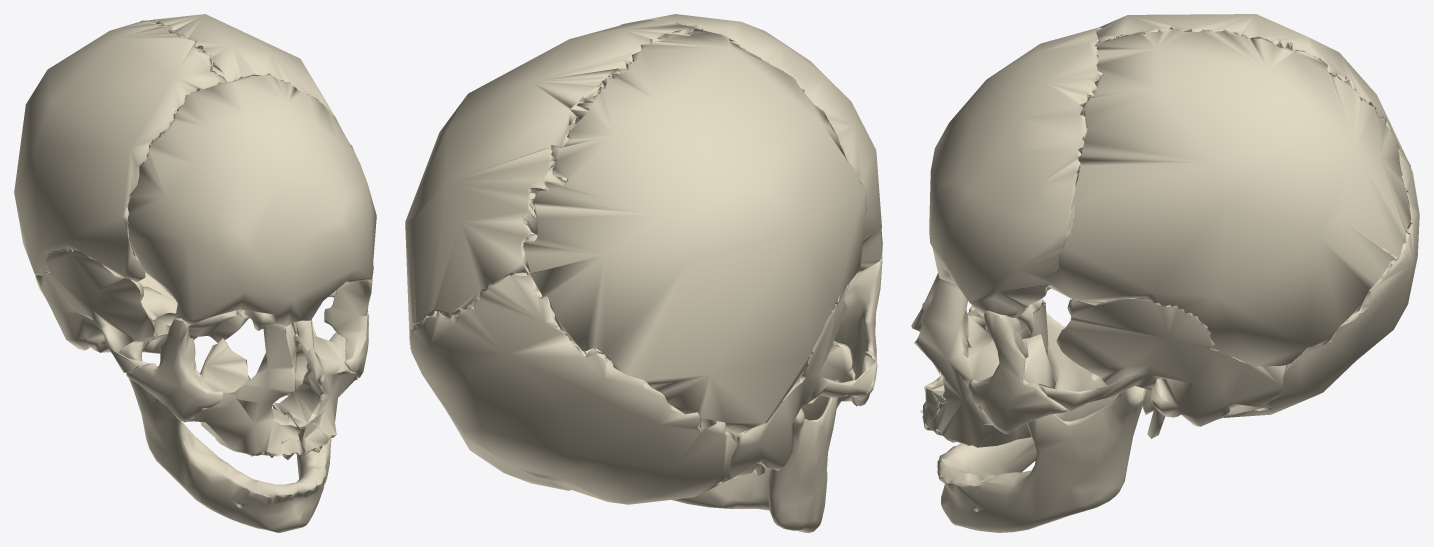
Rendered from head-mobile.glb.
3 views of the same model, side by side, from view 1: azimuth 30°, elevation 25°; view 2: azimuth 150°, elevation 25°; view 3: azimuth 270°, elevation 25° (orthographic). The views are drawn at different scales.
Visible parts, largest first — view 1: bp3d.FMA52734, bp3d.FMA9613, bp3d.FMA9711, bp3d.FMA52748, bp3d.FMA52737, bp3d.FMA52747, bp3d.FMA52735; view 2: bp3d.FMA9613, bp3d.FMA52735, bp3d.FMA52734, bp3d.FMA52748, bp3d.FMA52737, bp3d.FMA52747, bp3d.FMA9711; view 3: bp3d.FMA9613, bp3d.FMA52734, bp3d.FMA52748, bp3d.FMA52737, bp3d.FMA9711, bp3d.FMA52735, bp3d.FMA52747.
Part boxes in pixels (x1,y1,x2,y2): bp3d.FMA52734: [127, 74, 376, 334]; bp3d.FMA9613: [14, 14, 353, 281]; bp3d.FMA9711: [183, 320, 357, 460]; bp3d.FMA52748: [120, 319, 331, 532]; bp3d.FMA52737: [35, 248, 368, 372]; bp3d.FMA52747: [126, 274, 372, 421]; bp3d.FMA52735: [114, 273, 249, 353]; bp3d.FMA9613: [405, 19, 867, 435]; bp3d.FMA52735: [409, 272, 736, 504]; bp3d.FMA52734: [620, 14, 882, 272]; bp3d.FMA52748: [672, 380, 838, 532]; bp3d.FMA52737: [530, 230, 876, 481]; bp3d.FMA52747: [834, 256, 882, 406]; bp3d.FMA9711: [801, 341, 857, 420]; bp3d.FMA9613: [1046, 14, 1411, 366]; bp3d.FMA52734: [929, 27, 1102, 318]; bp3d.FMA52748: [937, 313, 1147, 532]; bp3d.FMA52737: [1039, 297, 1285, 438]; bp3d.FMA9711: [911, 273, 1055, 447]; bp3d.FMA52735: [1223, 148, 1419, 417]; bp3d.FMA52747: [968, 287, 1067, 433].
Size of the model in its own units: 0.1513 by 0.2152 by 0.2023.
